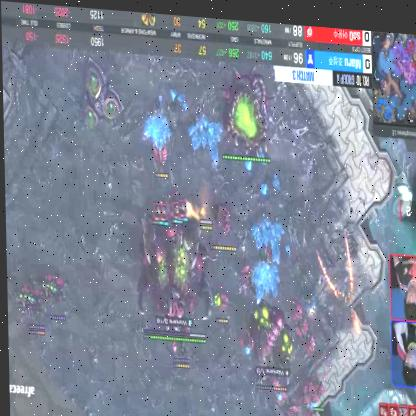streamer: (391, 314, 416, 380), (391, 248, 416, 313)
